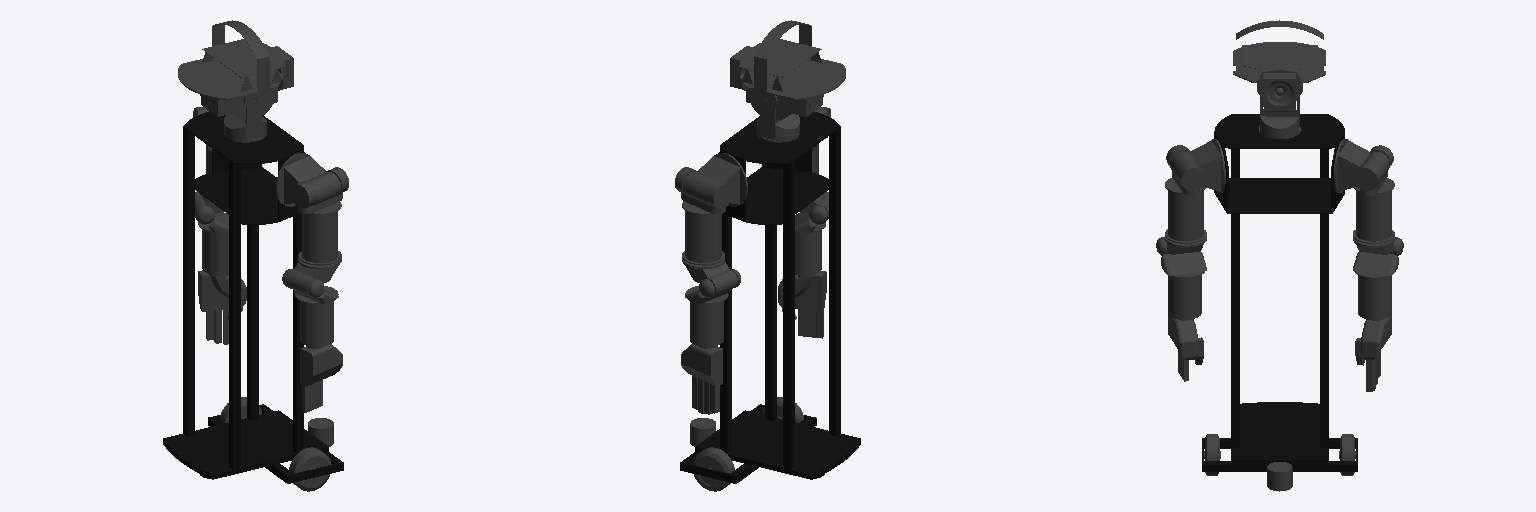
robot.urdf — sobit:
<?xml version="1.0"?>
<robot name="sobit">

<material name="black">
        <color rgba="0.3 0.3 0.3 0.8"/>
      </material>

<material name="black2">
        <color rgba="0.1 0.1 0.1 1.0"/>
      </material>

  <!--link ####################################################################-->
  <!--base_frame link-->
  <link name="base_frame">
    <visual>
      <geometry>
        <mesh filename="package://sobit_description/mesh/SOBIT_MainFrame v1.stl"/>
      </geometry>
      <origin rpy="0 0 0" xyz="0 0 0.06"/>
      <material name="black2">
      </material>
    </visual>
  </link>

  <!--left_wheel link-->
  <link name="left_wheel">
    <visual>
      <geometry>
        <mesh filename="package://sobit_description/mesh/wheel.stl"/>
      </geometry>
      <origin rpy="0 0 0" xyz="0 0 0"/>
      <material name="black">
      </material>
    </visual>
  </link>

  <!--right_wheel link-->
  <link name="right_wheel">
    <visual>
      <geometry>
        <mesh filename="package://sobit_description/mesh/wheel.stl"/>
      </geometry>
      <origin rpy="0 0 0" xyz="0 0 0"/>
      <material name="black">
      </material>
    </visual>
  </link>

  <!--right_shoulder link-->
  <link name="right_shoulder">
    <visual>
      <geometry>
        <mesh filename="package://sobit_description/mesh/SOBIT_shoulder v1.stl"/>
      </geometry>
      <origin rpy="0 0 0" xyz="0 0 0"/>
      <material name="black">
      </material>
    </visual>
  </link>

  <!--left_shoulder link-->
  <link name="left_shoulder">
    <visual>
      <geometry>
        <mesh filename="package://sobit_description/mesh/SOBIT_shoulder v1.stl"/>
      </geometry>
      <origin rpy="0 0 3.14" xyz="0 0 0"/>
      <material name="black">
      </material>
    </visual>
  </link>

  <!--right_First_arm link-->
  <link name="right_first_arm">
    <visual>
      <geometry>
        <mesh filename="package://sobit_description/mesh/first_arm.stl"/>
      </geometry>
      <origin rpy="0 0 0" xyz="0 0 -0.17"/>
      <material name="black">
      </material>
    </visual>
  </link>

  <!--left_First_arm link-->
  <link name="left_first_arm">
    <visual>
      <geometry>
        <mesh filename="package://sobit_description/mesh/first_arm.stl"/>
      </geometry>
      <origin rpy="0 0 0" xyz="0 0 -0.17"/>
      <material name="black">
      </material>
    </visual>
  </link>

  <!--right_elbow link-->
  <link name="right_elbow">
    <visual>
      <geometry>
        <mesh filename="package://sobit_description/mesh/SOBIT_elbow v2.stl"/>
      </geometry>
      <origin rpy="0 0 0" xyz="0 0 0"/>
      <material name="black">
      </material>
    </visual>
  </link>

  <!--left_elbow link-->
  <link name="left_elbow">
    <visual>
      <geometry>
        <mesh filename="package://sobit_description/mesh/SOBIT_elbow v2.stl"/>
      </geometry>
      <origin rpy="0 0 3.14" xyz="0 0 0"/>
      <material name="black">
      </material>
    </visual>
  </link>

  <!--right_second_arm link-->
  <link name="right_second_arm">
    <visual>
      <geometry>
        <mesh filename="package://sobit_description/mesh/SOBIT_second_arm v2.stl"/>
      </geometry>
      <origin rpy="0 0 0" xyz="0 0 0"/>
      <material name="black">
      </material>
    </visual>
  </link>

  <!--left_second_arm link-->
  <link name="left_second_arm">
    <visual>
      <geometry>
        <mesh filename="package://sobit_description/mesh/SOBIT_second_arm v2.stl"/>
      </geometry>
      <origin rpy="0 0 3.14" xyz="0 0 0"/>
      <material name="black">
      </material>
    </visual>
  </link>
   
  <!-- head -->
  <!--neck_link-->
  <link name="neck">
    <visual>
      <geometry>
        <mesh filename="package://sobit_description/mesh/SOBIT_neck.stl"/>
      </geometry>
      <origin rpy="0 0 1.517" xyz="0 0 0"/>
      <material name="black">
      </material>
    </visual>
  </link>

  <!--chin_link-->
  <link name="chin">
    <visual>
      <geometry>
        <mesh filename="package://sobit_description/mesh/SOBIT_chin.stl"/>
      </geometry>
      <origin rpy="0 0 0" xyz="0 0 0"/>
      <material name="black">
      </material>
    </visual>
  </link>

  <!--head_link-->
  <link name="head">
    <visual>
      <geometry>
        <mesh filename="package://sobit_description/mesh/SOBIT_head.stl"/>
      </geometry>
      <origin rpy="0 0 0" xyz="0 0 0"/>
      <material name="black">
      </material>
    </visual>
  </link>

  <!-- left_hand -->
  <!--left_hand_link-->
  <link name="left_hand">
    <visual>
      <geometry>
        <mesh filename="package://sobit_description/mesh/SOBIT_hand.stl"/>
      </geometry>
      <origin rpy="0 0 0" xyz="0 0 0"/>
      <material name="black">
      </material>
    </visual>
  </link>

  <!--left_thumb_link-->
  <link name="left_hand_thumb">
    <visual>
      <geometry>
        <mesh filename="package://sobit_description/mesh/SOBIT_thumb.stl"/>
      </geometry>
      <origin rpy="0 0 0" xyz="0 0 0"/>
      <material name="black">
      </material>
    </visual>
  </link>

  <!--left_index_link-->
  <link name="left_hand_index">
    <visual>
      <geometry>
        <mesh filename="package://sobit_description/mesh/SOBIT_index.stl"/>
      </geometry>
      <origin rpy="0 0 0" xyz="0 0 0"/>
      <material name="black">
      </material>
    </visual>
  </link>

  <!--left_middle_link-->
  <link name="left_hand_middle">
    <visual>
      <geometry>
         <mesh filename="package://sobit_description/mesh/SOBIT_index.stl" scale="1 1 1.0588"/>
      </geometry>
      <origin rpy="0 0 0" xyz="0 0 0"/>
      <material name="black">
      </material>
    </visual>
  </link>

  <!--left_ring_link-->
  <link name="left_hand_ring">
    <visual>
      <geometry>
         <mesh filename="package://sobit_description/mesh/SOBIT_index.stl" scale="1 1 1"/>
      </geometry>
      <origin rpy="0 0 0" xyz="0 0 0"/>
      <material name="black">
      </material>
    </visual>
  </link>

  <!--left_pinky_link-->
  <link name="left_hand_pinky">
    <visual>
      <geometry>
         <mesh filename="package://sobit_description/mesh/SOBIT_index.stl" scale="1 1 0.88"/>
      </geometry>
      <origin rpy="0 0 0" xyz="0 0 0"/>
      <material name="black">
      </material>
    </visual>
  </link>

  <!-- right_hand -->
  <!--right_hand_link-->
  <link name="right_hand">
    <visual>
      <geometry>
        <mesh filename="package://sobit_description/mesh/SOBIT_hand_right.stl"/>
      </geometry>
      <origin rpy="0 0 3.14" xyz="0 0 0"/>
      <material name="black">
      </material>
    </visual>
  </link>

   <!--right_thumb_link-->
  <link name="right_hand_thumb">
    <visual>
      <geometry>
        <mesh filename="package://sobit_description/mesh/SOBIT_thumb_right.stl"/>
      </geometry>
      <origin rpy="0 3.14 0" xyz="0 0 0"/>
      <material name="black">
      </material>
    </visual>
  </link>

  <!--right_hand_twist link-->
  <link name="right_hand_twist">
    <visual>
      <geometry>
        <box size="0.06 0.01 0.07"/>
      </geometry>
      <origin rpy="0 0 0" xyz="0.03 0.01 -0.035"/>
      <material name="black">
      </material>
    </visual>
  </link>


  <!--lidar link-->
  <link name="lidar">
    <visual>
      <geometry>
        <cylinder length="0.05" radius="0.03"/>
      </geometry>
      <origin rpy="0 0 0" xyz="0 0 0"/>
      <material name="black">
      </material>
    </visual>
  </link>










  <!-- joint  ################################################################## -->
  <!-- wheel -->
  <!--left_wheel joint-->
  <joint name="L_wheel" type="continuous">
    <parent link="base_frame"/>
    <child link="left_wheel"/>
    <axis xyz="0 1 0"/>
    <origin xyz="0.08 0.16 0.05"/>
  </joint>

  <!--right_wheel joint-->
  <joint name="R_wheel" type="continuous">
    <parent link="base_frame"/>
    <child link="right_wheel"/>
    <axis xyz="0 1 0"/>
    <origin xyz="0.08 -0.16 0.05"/>
  </joint>

  <!-- left_arm -->
  <!--left_shoulder to left_first_arm joint-->
  <joint name="L_shoulder_roll" type="revolute">
    <parent link="left_shoulder"/>
    <child link="left_first_arm"/>
    <axis xyz="1 0 0"/>
    <origin rpy="0.0 0 0" xyz="0.00 0.075 0"/>
     <limit effort="1000" lower="0" upper="3.14" velocity="0.5"/>
  </joint>

  <!--left_shoulder_pitch joint-->
  <joint name="L_shoulder_pitch" type="revolute">
    <parent link="base_frame"/>
    <child link="left_shoulder"/>
    <axis xyz="0 1 0"/>
    <origin rpy="0 0 6.0" xyz="0.05 0.15 0.79"/>
     <limit effort="1000" lower="-3.14" upper="1.571" velocity="0.5"/>
  </joint>

  <!--left_elbow_yaw joint-->
  <joint name="L_elbow_yaw" type="revolute">
    <parent link="left_first_arm"/>
    <child link="left_elbow"/>
    <axis xyz="0 0 1"/>
    <origin rpy="0 0 -1.571" xyz="0.00 0 -0.175"/>
     <limit effort="1000" lower="-1.571" upper="3.14" velocity="0.5"/>
  </joint>

  <!--left_elbow to left_second_arm joint-->
  <joint name="L_elbow_pitch" type="revolute">
    <parent link="left_elbow"/>
    <child link="left_second_arm"/>
    <axis xyz="1 0 0"/>
    <origin rpy="0 0 0" xyz="0.00 -0.055 -0.045"/>
     <limit effort="1000" lower="-3.14" upper="0.3" velocity="0.5"/>
  </joint>
 
  <!-- right_arm -->
  <!--right_shoulder to right_first_arm joint-->
  <joint name="R_shoulder_roll" type="revolute">
    <parent link="right_shoulder"/>
    <child link="right_first_arm"/>
    <axis xyz="1 0 0"/>
    <origin rpy="0.0 0 0" xyz="0.00 -0.075 0"/>
     <limit effort="1000" lower="-3.14" upper="0" velocity="0.5"/>
  </joint>

  <!--shoulder_pitch-->
  <joint name="R_shoulder_pitch" type="revolute">
    <parent link="base_frame"/>
    <child link="right_shoulder"/>
    <axis xyz="0 1 0"/>
    <origin rpy="0 0 0.27" xyz="0.05 -0.15 0.79"/>
     <limit effort="1000" lower="-3.14" upper="1.571" velocity="0.5"/>
  </joint>

  <!--elbow_yaw joint-->
  <joint name="R_elbow_yaw" type="revolute">
    <parent link="right_first_arm"/>
    <child link="right_elbow"/>
    <axis xyz="0 0 1"/>
    <origin rpy="0 0 1.571" xyz="0.00 0 -0.175"/>
     <limit effort="1000" lower="-3.14" upper="1.571" velocity="0.5"/>
  </joint>

  <!--elbow_pitch joint-->
  <joint name="R_elbow_pitch" type="revolute">
    <parent link="right_elbow"/>
    <child link="right_second_arm"/>
    <axis xyz="1 0 0"/>
    <origin rpy="0 0 0" xyz="0.00 0.055 -0.045"/>
     <limit effort="1000" lower="-0.3" upper="3.14" velocity="0.5"/>
  </joint>

  <!-- head -->
  <!--neck pitch joint-->
  <joint name="neck_pitch" type="revolute">
    <parent link="neck"/>
    <child link="chin"/>
    <axis xyz="0 1 0"/>
    <origin rpy="0 0 0" xyz="0 0 0.11"/>
     <limit effort="1000" lower="-0.505" upper="0.505" velocity="0.5"/>
  </joint>

  <!--neck yaw joint-->
  <joint name="neck_yaw" type="revolute">
    <parent link="chin"/>
    <child link="head"/>
    <axis xyz="1 0 0"/>
    <origin rpy="0 0 0" xyz="-0.016 0 0"/>
     <limit effort="1000" lower="-0.505" upper="0.505" velocity="0.5"/>
  </joint>

  <!--neck roll-->
  <joint name="neck_roll" type="revolute">
    <parent link="base_frame"/>
    <child link="neck"/>
    <axis xyz="0 0 1"/>
    <origin rpy="0 0 0" xyz="0 0 0.86"/>
     <limit effort="1000" lower="-1.571" upper="1.571" velocity="0.5"/>
  </joint>


  <!-- left_hand -->
  <!--left_hand_wrist joint-->
  <joint name="L_hand_wrist" type="revolute">
    <parent link="left_second_arm"/>
    <child link="left_hand"/>
    <axis xyz="0 0 1"/>
    <origin rpy="0 0 1.571" xyz="0 0.04 -0.17"/>
     <limit effort="1000" lower="-1.571" upper="1.571" velocity="0.5"/>
  </joint>

  <!--left_hand_thumb joint-->
  <joint name="L_hand_thumb" type="revolute">
    <parent link="left_hand"/>
    <child link="left_hand_thumb"/>
    <axis xyz="0 -1 0"/>
    <origin rpy="0 0 0" xyz="0.04 -0.035 -0.055"/>
     <limit effort="1000" lower="-1.571" upper="1.571" velocity="0.5"/>
  </joint>

  <!--left_hand_index joint-->
  <joint name="left_hand_index" type="revolute">
    <parent link="left_hand"/>
    <child link="left_hand_index"/>
    <axis xyz="1 0 0"/>
    <origin rpy="0 0 0" xyz="0.04 -0.01 -0.09"/>
     <limit effort="1000" lower="-1.571" upper="0" velocity="0.5"/>
  </joint> 

  <!--left_hand_middle joint-->
  <joint name="L_hand_middle" type="revolute">
    <parent link="left_hand"/>
    <child link="left_hand_middle"/>
    <axis xyz="1 0 0"/>
    <origin rpy="0 0 0" xyz="0.02 -0.01 -0.09"/>
     <limit effort="1000" lower="-1.571" upper="0" velocity="0.5"/>
  </joint> 

  <!--left_hand_ring joint-->
  <joint name="L_hand_ring" type="revolute">
    <parent link="left_hand"/>
    <child link="left_hand_ring"/>
    <axis xyz="1 0 0"/>
    <origin rpy="0 0 0" xyz="0 -0.01 -0.09"/>
     <limit effort="1000" lower="-1.571" upper="0" velocity="0.5"/>
  </joint> 

  <!--left_hand_pinky joint-->
  <joint name="L_hand_pinky" type="revolute">
    <parent link="left_hand"/>
    <child link="left_hand_pinky"/>
    <axis xyz="1 0 0"/>
    <origin rpy="0 0 0" xyz="-0.02 -0.01 -0.09"/>
     <limit effort="1000" lower="-1.571" upper="0" velocity="0.5"/>
  </joint> 

  <!-- right_hand -->
  <!--right_hand_wrist joint-->
  <joint name="right_arm_to_right_hand" type="fixed">
    <parent link="right_second_arm"/>
    <child link="right_hand"/>
    <origin rpy="0 0 1.571" xyz="0 -0.04 -0.17"/>  
  </joint>

  <!--right_hand_wrist joint-->
  <joint name="right_hand_to_right_thumb" type="fixed">
    <parent link="right_hand"/>
    <child link="right_hand_thumb"/>
    <origin rpy="0 0 0" xyz="-0.04 -0.035 -0.055"/>
  </joint> 

  <!--right_hand_twist joint-->
  <joint name="R_hand_twist" type="revolute">
    <parent link="right_hand"/>
    <child link="right_hand_twist"/>
    <axis xyz="1 0 0"/>
    <origin rpy="0 0 0" xyz="-0.02 -0.01 -0.09"/>
     <limit effort="1000" lower="-1.571" upper="0" velocity="0.5"/>
  </joint>


  <!-- lidar -->
  <!--lidar joint-->
  <joint name="lidar" type="fixed">
    <parent link="base_frame"/>
    <child link="lidar"/>
    <origin rpy="0 0 3.14" xyz="0.2 0 0.05"/>
  </joint> 

</robot>

--- What the picture shows (computed from the rendered views, not written in the file) ---
Views: 3 orthographic renders of the robot side by side, from view 1: azimuth 30°, elevation 25°; view 2: azimuth 150°, elevation 25°; view 3: azimuth 270°, elevation 25°.
Robot: sobit — 24 links, 23 joints (18 revolute, 2 continuous, 3 fixed); root link base_frame; default pose: every joint at zero.
Visible links, largest first — view 1: base_frame, head, right_first_arm, right_second_arm, right_shoulder, left_second_arm, neck, right_hand, left_hand, right_wheel, right_elbow, chin (+2 smaller); view 2: base_frame, head, left_first_arm, left_second_arm, left_shoulder, right_second_arm, neck, left_hand, right_hand, left_wheel, left_elbow, chin (+2 smaller); view 3: base_frame, head, left_first_arm, right_first_arm, right_second_arm, left_second_arm, left_shoulder, right_shoulder, neck, left_hand, right_hand, lidar.
Link boxes in pixels (bbox=[...]): base_frame: bbox=[163, 111, 343, 483]; head: bbox=[178, 20, 293, 108]; right_first_arm: bbox=[291, 167, 348, 265]; right_second_arm: bbox=[282, 269, 338, 346]; right_shoulder: bbox=[276, 153, 341, 206]; left_second_arm: bbox=[195, 192, 228, 275]; neck: bbox=[224, 91, 266, 142]; right_hand: bbox=[300, 344, 342, 386]; left_hand: bbox=[198, 270, 246, 311]; right_wheel: bbox=[289, 447, 331, 491]; right_elbow: bbox=[286, 258, 341, 295]; chin: bbox=[201, 88, 277, 119]; base_frame: bbox=[680, 111, 860, 483]; head: bbox=[730, 20, 845, 108]; left_first_arm: bbox=[675, 167, 732, 265]; left_second_arm: bbox=[685, 269, 740, 346]; left_shoulder: bbox=[682, 153, 747, 206]; right_second_arm: bbox=[795, 192, 828, 275]; neck: bbox=[757, 91, 799, 142]; left_hand: bbox=[681, 344, 722, 385]; right_hand: bbox=[778, 271, 826, 311]; left_wheel: bbox=[692, 447, 734, 491]; left_elbow: bbox=[682, 258, 737, 296]; chin: bbox=[746, 88, 822, 120]; base_frame: bbox=[1202, 114, 1357, 471]; head: bbox=[1233, 20, 1325, 109]; left_first_arm: bbox=[1353, 145, 1394, 243]; right_first_arm: bbox=[1165, 145, 1206, 243]; right_second_arm: bbox=[1156, 237, 1206, 319]; left_second_arm: bbox=[1353, 237, 1403, 319]; left_shoulder: bbox=[1334, 139, 1389, 192]; right_shoulder: bbox=[1170, 139, 1225, 192]; neck: bbox=[1259, 97, 1300, 138]; left_hand: bbox=[1361, 315, 1391, 360]; right_hand: bbox=[1168, 315, 1198, 360]; lidar: bbox=[1267, 462, 1292, 491].
Bounding box of the posed robot: 0.3997 × 0.5854 × 1.13 m (x, y, z).
Meshes: 14 distinct files referenced, 22 mesh visuals loaded (14 binary STL).
